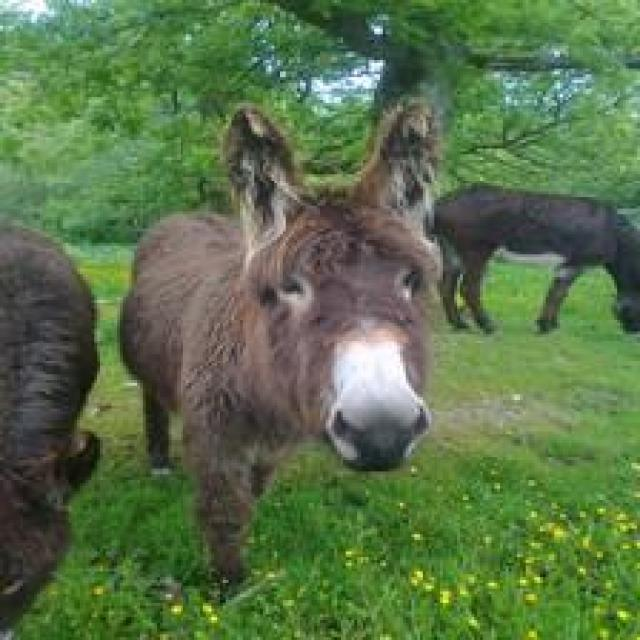Donkey: (114, 97, 443, 592), (0, 214, 100, 637), (426, 183, 637, 337)
